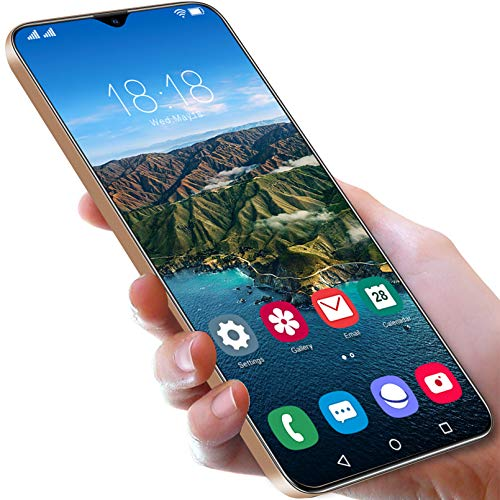phones: (3, 6, 500, 500)
